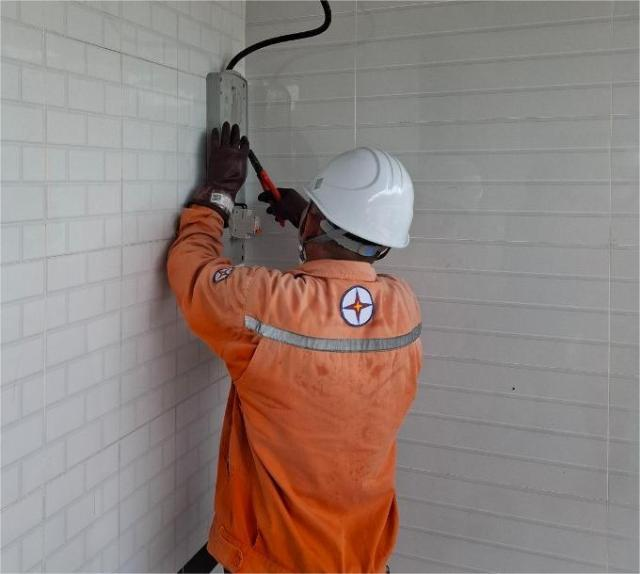gloves: (172, 104, 247, 212)
helmet: (296, 140, 431, 260)
